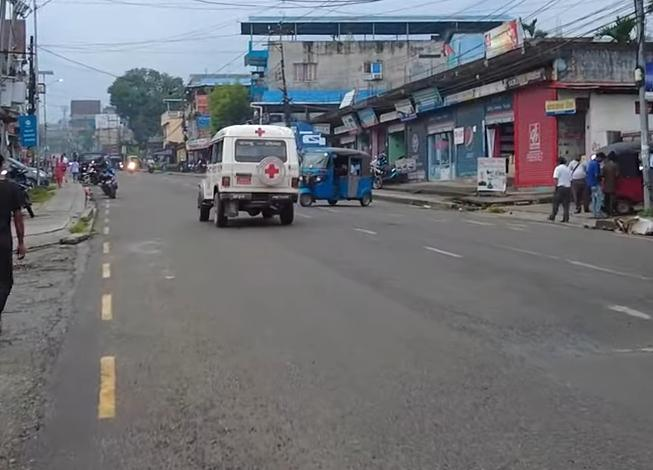ambulance: (195, 125, 302, 229)
auto_rickshaw: (297, 145, 378, 210)
bike: (95, 162, 121, 203)
